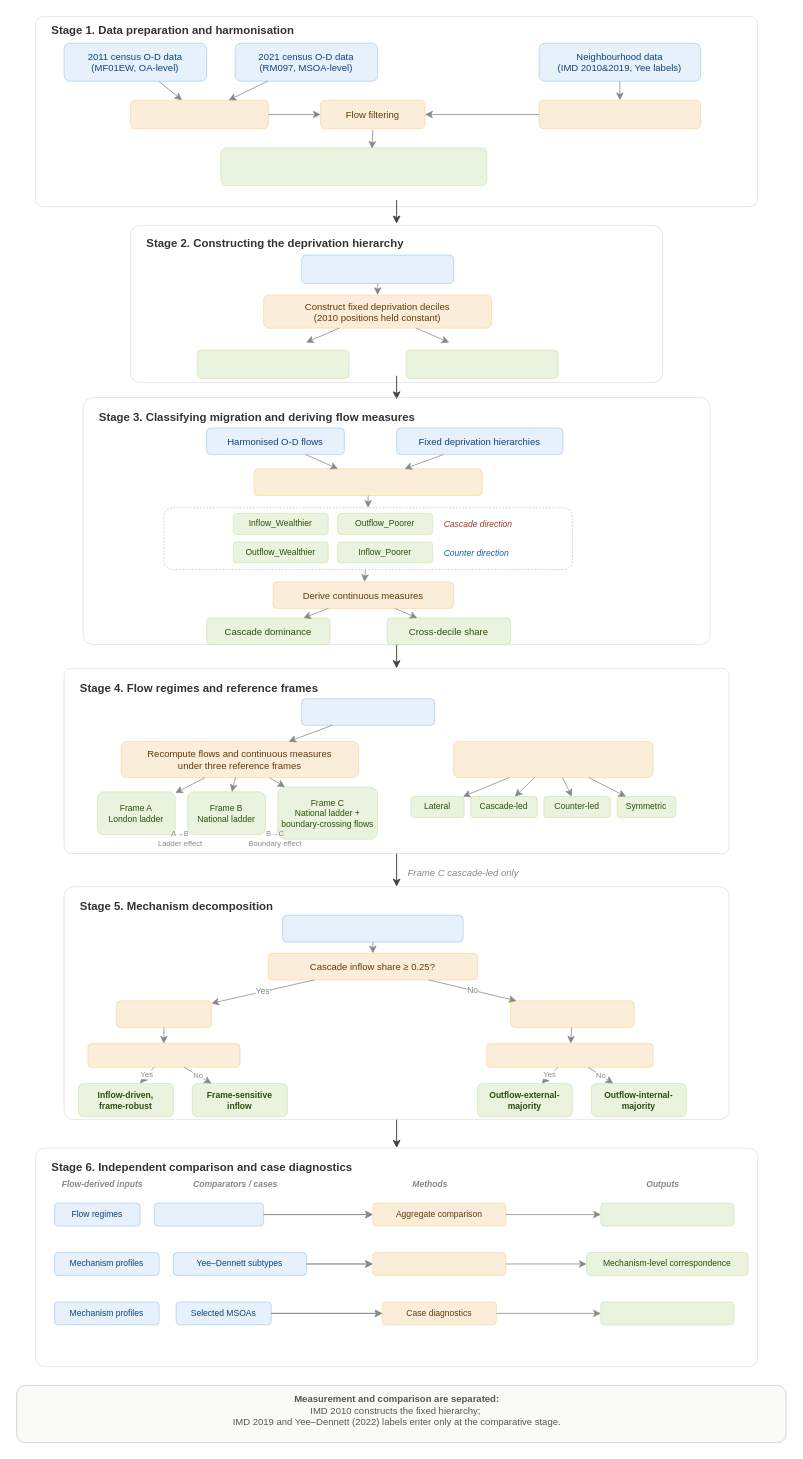
The diagram is 803 pixels wide and 1459 high, and some of its shapes have lost their labels. The shapes that lost their labels are listed below. From the top down, each one's box as (x1, y1, x2, y2) in pixels, then its label:
(130, 100, 268, 129): Spatial harmonisation
(538, 100, 700, 129): Neighbourhood aggregation MSOA <--- LSOA
(220, 147, 487, 186): Harmonised analytical dataset 982 MSOA s; flows and neighbourhood indicators
(301, 254, 453, 283): IMD 2010 MSOA scores
(196, 349, 349, 378): London-relative hierarchy
(405, 349, 558, 378): England-wide hierarchy
(253, 468, 482, 495): Classify hierarchy-crossing migration
(301, 698, 434, 725): Continuous measures
(453, 741, 653, 777): Assign frame-specific flow regimes
(282, 915, 463, 942): Frame C cascade-led MSOAs
(116, 1000, 211, 1027): Inflow-led
(510, 1000, 634, 1027): Outflow-dominated
(87, 1043, 240, 1067): Cascade-led in Frame A?
(486, 1043, 653, 1067): External-arm share ≥ 0.50?
(154, 1203, 263, 1226): IMD 2019 trajectory
(600, 1203, 734, 1226): Aggregate correspondence
(372, 1252, 506, 1275): Mechanism comparison
(600, 1301, 734, 1325): Case-level flow structures
